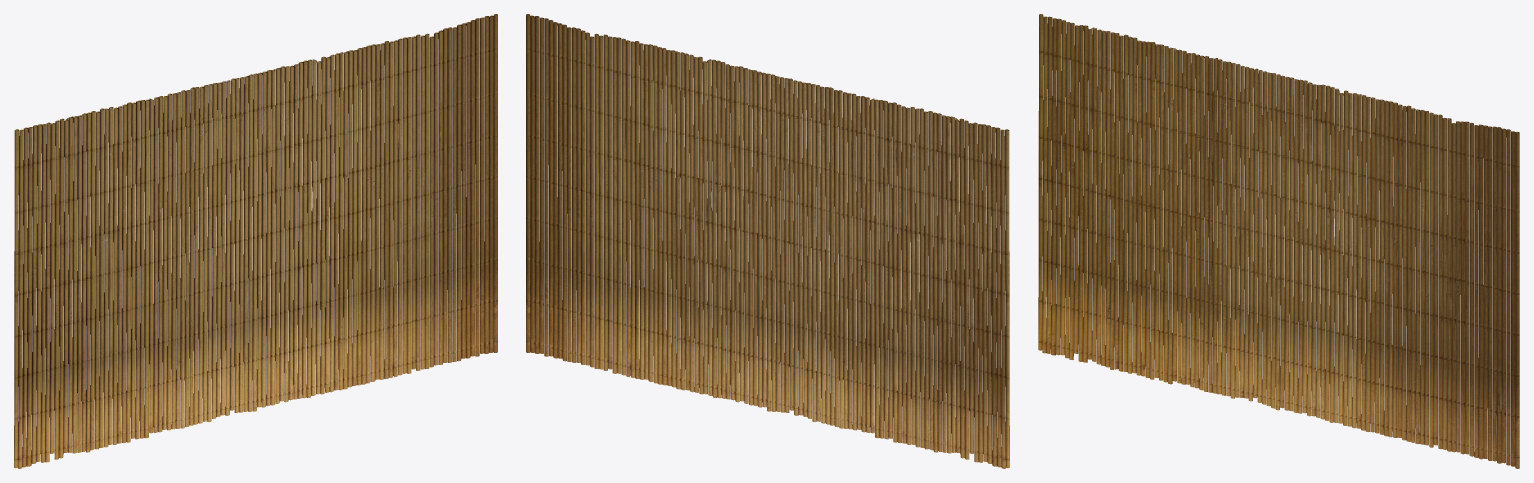
Rendered from bamboo_cover.glb.
3 views of the same model, side by side, from view 1: azimuth 30°, elevation 25°; view 2: azimuth 150°, elevation 25°; view 3: azimuth 330°, elevation 25° (orthographic).
Parts seen in each view (by area): view 1: bamboo-texture-1621806; view 2: bamboo-texture-1621806; view 3: bamboo-texture-1621806.
Boxes of the visible parts, x1=… form: bamboo-texture-1621806: x1=14, y1=14, x2=497, y2=468; bamboo-texture-1621806: x1=526, y1=14, x2=1009, y2=468; bamboo-texture-1621806: x1=1038, y1=14, x2=1519, y2=468.
Bounding box in the file's own units: 149 × 100 × 0.9558.
1 material, 1 textured.
